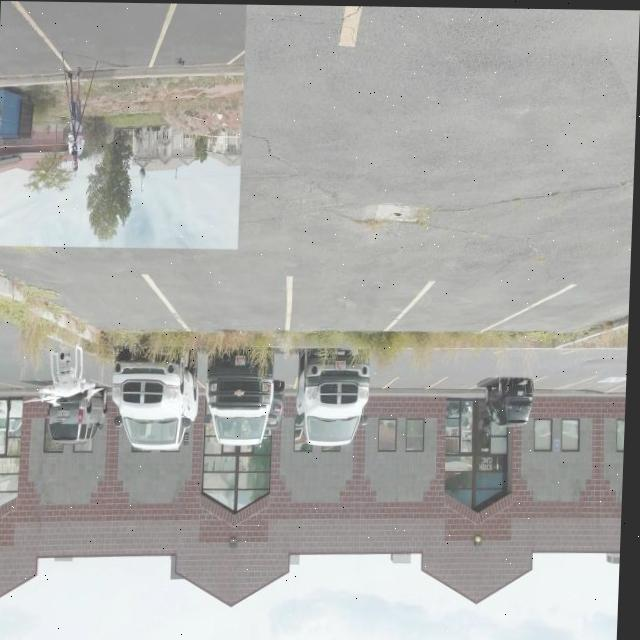drone: (26, 346, 108, 409)
